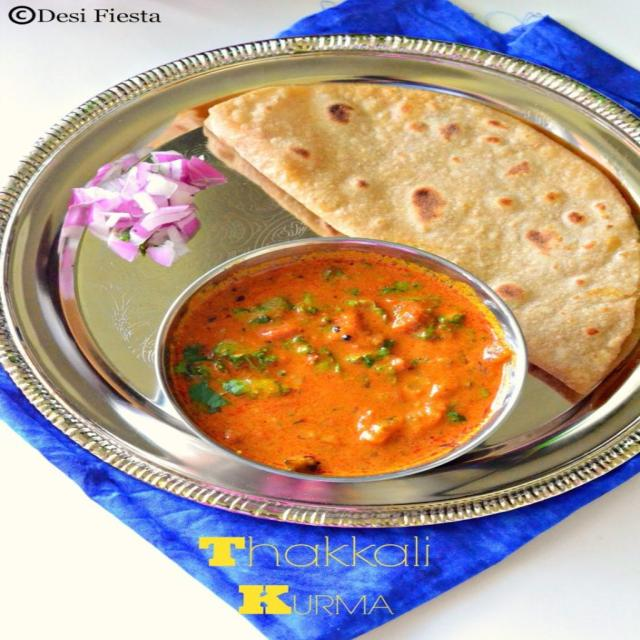dosa: (203, 71, 638, 397)
